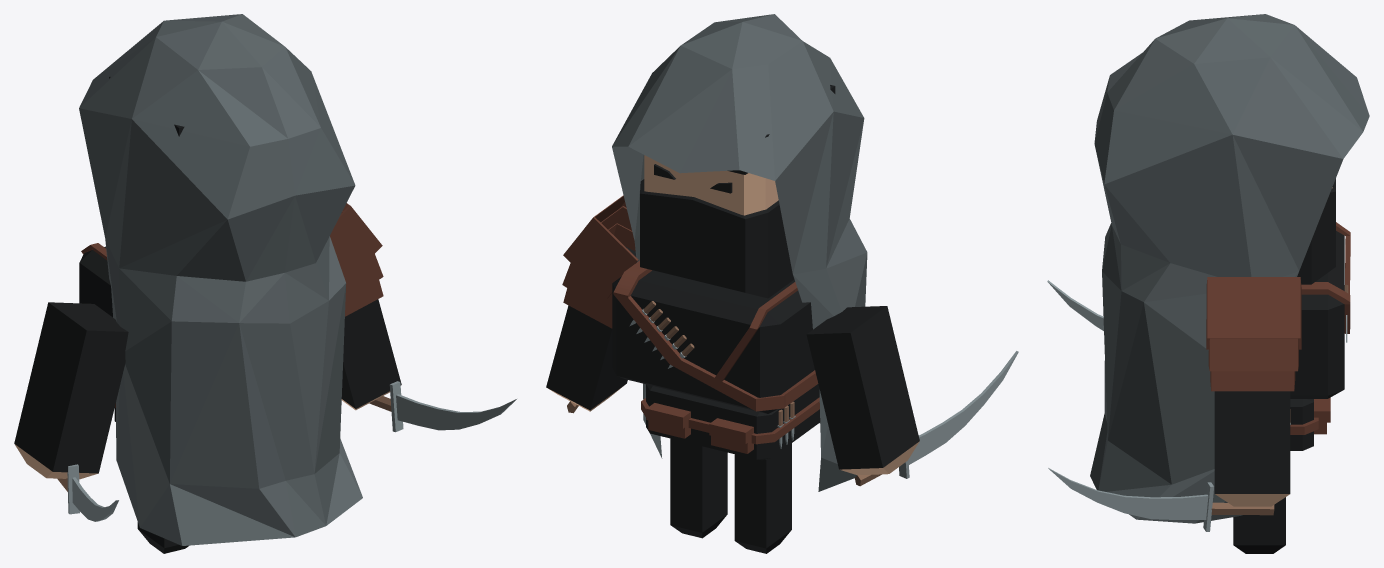
Rendered from Assassin.FBX.
3 renders of one model, left to right at view 1: azimuth 30°, elevation 25°; view 2: azimuth 150°, elevation 25°; view 3: azimuth 270°, elevation 25°, orthographic. The views are drawn at different scales.
Visible parts, largest first — view 1: Box001; view 2: Box001; view 3: Box001.
Boxes of the visible parts, box(x1,y1,x2,y2) form: Box001: box(14, 14, 516, 553); Box001: box(546, 14, 1018, 553); Box001: box(1047, 14, 1369, 553).
Bounding box in the file's own units: 20 × 25.06 × 14.17.
